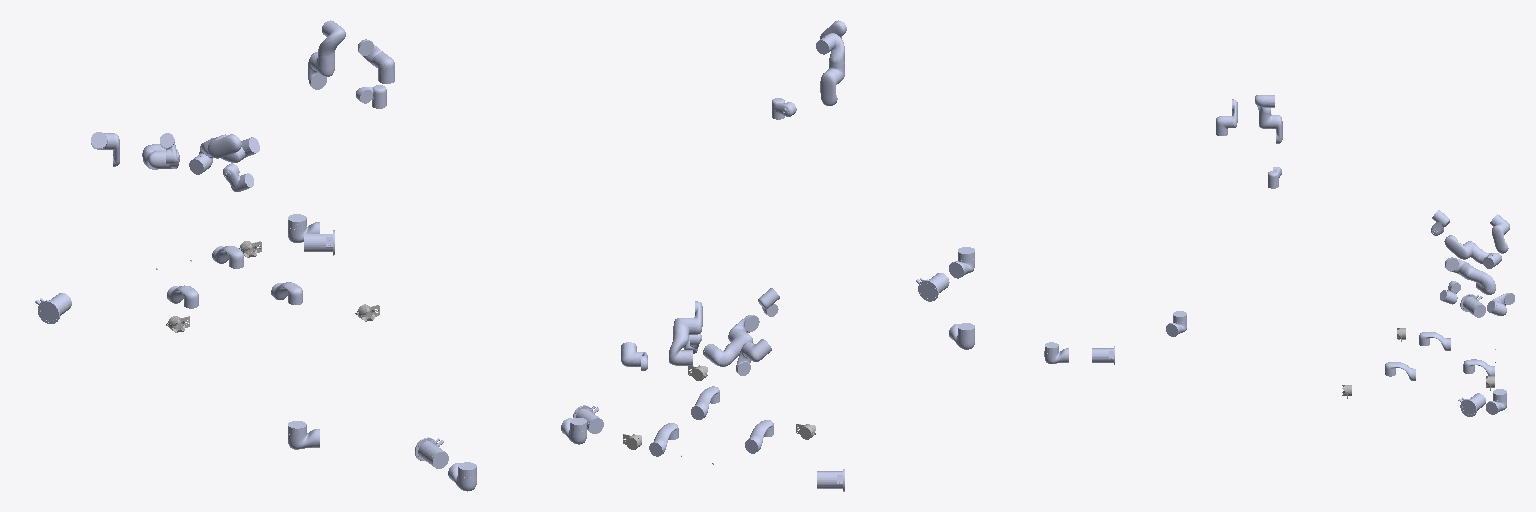
--- Render facts (derived) ---
Views: 3 orthographic renders of the robot side by side, from view 1: azimuth 30°, elevation 25°; view 2: azimuth 150°, elevation 25°; view 3: azimuth 270°, elevation 25°.
Model mario_assembly with 24 links and 23 joints (18 revolute, 2 continuous, 3 fixed), rooted at mainbaselink, posed every joint at zero.
Visible links, largest first — view 1: link2up, link2right, link3up, link1left, link0up, link0left, link1up, link1right, link2left, link3left, link0right, link5up (+4 smaller); view 2: link2up, link2left, link2right, link3left, link0up, link1up, link4up, link1left, link3right, link1right, link4right, link4left; view 3: link2left, link2right, link2up.
Boxes of the visible links, left/top/right/bottom form: link2up: left=308, top=20, right=345, bottom=89; link2right: left=189, top=134, right=241, bottom=174; link3up: left=358, top=39, right=394, bottom=83; link1left: left=288, top=421, right=319, bottom=449; link0up: left=415, top=437, right=448, bottom=468; link0left: left=35, top=293, right=71, bottom=323; link1up: left=448, top=462, right=476, bottom=491; link1right: left=288, top=214, right=319, bottom=242; link2left: left=142, top=144, right=179, bottom=169; link3left: left=91, top=132, right=119, bottom=166; link0right: left=304, top=230, right=334, bottom=255; link5up: left=356, top=85, right=386, bottom=108; link2up: left=816, top=33, right=844, bottom=105; link2left: left=703, top=315, right=759, bottom=366; link2right: left=669, top=301, right=702, bottom=365; link3left: left=736, top=339, right=771, bottom=375; link0up: left=916, top=273, right=949, bottom=301; link1up: left=949, top=247, right=974, bottom=278; link4up: left=649, top=423, right=678, bottom=456; link1left: left=949, top=323, right=974, bottom=349; link3right: left=621, top=342, right=647, bottom=370; link1right: left=561, top=418, right=586, bottom=444; link4right: left=745, top=420, right=773, bottom=453; link4left: left=691, top=386, right=719, bottom=419; link2left: left=1444, top=235, right=1501, bottom=268; link2right: left=1445, top=257, right=1495, bottom=294; link2up: left=1255, top=95, right=1282, bottom=143.
Bounding box of the posed robot: 1.72 × 3.13 × 2 m (x, y, z).
Meshes: 24 distinct files referenced, 23 mesh visuals loaded (23 binary STL); not drawn: 1 (reference not matched to a file when rendering).

The robot description file, URDF, robot "mario_assembly":
<?xml version="1.0" encoding="utf-8"?>
<!-- This URDF was automatically created by SolidWorks to URDF Exporter! Originally created by Stephen Brawner ([email redacted]) 
     Commit Version: 1.6.0-4-g7f85cfe  Build Version: 1.6.7995.38578
     For more information, please see http://wiki.ros.org/sw_urdf_exporter -->
<robot
  name="mario_assembly">
  <link
    name="mainbaselink">
    <inertial>
      <origin
        xyz="0.0013006 0.0028181 0.90172"
        rpy="0 0 0" />
      <mass
        value="70.837" />
      <inertia
        ixx="2.0746"
        ixy="3.0942E-10"
        ixz="-7.7853E-10"
        iyy="3.5026"
        iyz="-0.0003362"
        izz="1.815" />
    </inertial>
    <visual>
      <origin
        xyz="0 0 0"
        rpy="0 0 0" />
      <geometry>
        <mesh
          filename="package://mario_assembly/meshes/mainbaselink.STL" />
      </geometry>
      <material
        name="">
        <color
          rgba="0.75294 0.75294 0.75294 1" />
      </material>
    </visual>
    <collision>
      <origin
        xyz="0 0 0"
        rpy="0 0 0" />
      <geometry>
        <mesh
          filename="package://mario_assembly/meshes/mainbaselink.STL" />
      </geometry>
    </collision>
  </link>
  <link
    name="link0up">
    <inertial>
      <origin
        xyz="0.0013425 0.00067055 0.073474"
        rpy="0 0 0" />
      <mass
        value="1.1698" />
      <inertia
        ixx="0.0031913"
        ixy="-4.0011E-05"
        ixz="7.2685E-05"
        iyy="0.0032548"
        iyz="3.6295E-05"
        izz="0.0015021" />
    </inertial>
    <visual>
      <origin
        xyz="0 0 0"
        rpy="0 0 0" />
      <geometry>
        <mesh
          filename="package://mario_assembly/meshes/link0up.STL" />
      </geometry>
      <material
        name="">
        <color
          rgba="0.79216 0.81961 0.93333 1" />
      </material>
    </visual>
    <collision>
      <origin
        xyz="0 0 0"
        rpy="0 0 0" />
      <geometry>
        <mesh
          filename="package://mario_assembly/meshes/link0up.STL" />
      </geometry>
    </collision>
  </link>
  <joint
    name="joint0up"
    type="fixed">
    <origin
      xyz="0 -1.2629 0"
      rpy="1.5708 0 0" />
    <parent
      link="mainbaselink" />
    <child
      link="link0up" />
    <axis
      xyz="0 0 0" />
  </joint>
  <link
    name="link1up">
    <inertial>
      <origin
        xyz="0.00021271 0.0073927 0.085089"
        rpy="0 0 0" />
      <mass
        value="1.3256" />
      <inertia
        ixx="0.0039077"
        ixy="-3.0453E-06"
        ixz="-7.4554E-06"
        iyy="0.0032369"
        iyz="-0.00041283"
        izz="0.0021922" />
    </inertial>
    <visual>
      <origin
        xyz="0 0 0"
        rpy="0 0 0" />
      <geometry>
        <mesh
          filename="package://mario_assembly/meshes/link1up.STL" />
      </geometry>
      <material
        name="">
        <color
          rgba="0.79216 0.81961 0.93333 1" />
      </material>
    </visual>
    <collision>
      <origin
        xyz="0 0 0"
        rpy="0 0 0" />
      <geometry>
        <mesh
          filename="package://mario_assembly/meshes/link1up.STL" />
      </geometry>
    </collision>
  </link>
  <joint
    name="joint1up"
    type="revolute">
    <origin
      xyz="0 0 0.1548"
      rpy="0 0 0" />
    <parent
      link="link0up" />
    <child
      link="link1up" />
    <axis
      xyz="0 0 -1" />
    <limit
      lower="-6.283"
      upper="6.283"
      effort="5"
      velocity="5" />
    <dynamics
      damping="0.5" />
  </joint>
  <link
    name="link2up">
    <inertial>
      <origin
        xyz="0.013528 -0.16642 -0.048713"
        rpy="0 0 0" />
      <mass
        value="2.6935" />
      <inertia
        ixx="0.015114"
        ixy="0.0028282"
        ixz="-0.00014159"
        iyy="0.0043522"
        iyz="-0.00072817"
        izz="0.015671" />
    </inertial>
    <visual>
      <origin
        xyz="0 0 0"
        rpy="0 0 0" />
      <geometry>
        <mesh
          filename="package://mario_assembly/meshes/link2up.STL" />
      </geometry>
      <material
        name="">
        <color
          rgba="0.79216 0.81961 0.93333 1" />
      </material>
    </visual>
    <collision>
      <origin
        xyz="0 0 0"
        rpy="0 0 0" />
      <geometry>
        <mesh
          filename="package://mario_assembly/meshes/link2up.STL" />
      </geometry>
    </collision>
  </link>
  <joint
    name="joint2up"
    type="revolute">
    <origin
      xyz="0.00034899 0.075295 0.112"
      rpy="-1.5708 0 0" />
    <parent
      link="link1up" />
    <child
      link="link2up" />
    <axis
      xyz="0 0 1" />
    <limit
      lower="-2.059"
      upper="2.094"
      effort="5"
      velocity="5" />
    <dynamics
      damping="0.5" />
  </joint>
  <link
    name="link3up">
    <inertial>
      <origin
        xyz="0.063373 0.081477 -0.029861"
        rpy="0 0 0" />
      <mass
        value="1.3025" />
      <inertia
        ixx="0.0052822"
        ixy="-0.0012908"
        ixz="0.00090165"
        iyy="0.0038842"
        iyz="0.0016205"
        izz="0.0044896" />
    </inertial>
    <visual>
      <origin
        xyz="0 0 0"
        rpy="0 0 0" />
      <geometry>
        <mesh
          filename="package://mario_assembly/meshes/link3up.STL" />
      </geometry>
      <material
        name="">
        <color
          rgba="0.79216 0.81961 0.93333 1" />
      </material>
    </visual>
    <collision>
      <origin
        xyz="0 0 0"
        rpy="0 0 0" />
      <geometry>
        <mesh
          filename="package://mario_assembly/meshes/link3up.STL" />
      </geometry>
    </collision>
  </link>
  <joint
    name="joint3up"
    type="revolute">
    <origin
      xyz="0.053313 -0.2859 -0.0083026"
      rpy="0 0 0" />
    <parent
      link="link2up" />
    <child
      link="link3up" />
    <axis
      xyz="0 0 1" />
    <limit
      lower="-3.926"
      upper="0.192"
      effort="5"
      velocity="5" />
    <dynamics
      damping="0.5" />
  </joint>
  <link
    name="link4up">
    <inertial>
      <origin
        xyz="0.00027015 0.032423 0.10205"
        rpy="0 0 0" />
      <mass
        value="0.78957" />
      <inertia
        ixx="0.0043745"
        ixy="3.6089E-06"
        ixz="2.6054E-06"
        iyy="0.0039417"
        iyz="-0.00089192"
        izz="0.0010384" />
    </inertial>
    <visual>
      <origin
        xyz="0 0 0"
        rpy="0 0 0" />
      <geometry>
        <mesh
          filename="package://mario_assembly/meshes/link4up.STL" />
      </geometry>
      <material
        name="">
        <color
          rgba="0.79216 0.81961 0.93333 1" />
      </material>
    </visual>
    <collision>
      <origin
        xyz="0 0 0"
        rpy="0 0 0" />
      <geometry>
        <mesh
          filename="package://mario_assembly/meshes/link4up.STL" />
      </geometry>
    </collision>
  </link>
  <joint
    name="joint4up"
    type="revolute">
    <origin
      xyz="0.077751 0.16917 -0.067495"
      rpy="-1.5708 0 0" />
    <parent
      link="link3up" />
    <child
      link="link4up" />
    <axis
      xyz="0 0 -1" />
    <limit
      lower="-6.283"
      upper="6.283"
      effort="5"
      velocity="5" />
    <dynamics
      damping="0.5" />
  </joint>
  <link
    name="link5up">
    <inertial>
      <origin
        xyz="0.048685 0.011108 0.013355"
        rpy="0 0 0" />
      <mass
        value="0.72305" />
      <inertia
        ixx="0.00084167"
        ixy="-0.00021771"
        ixz="0.00027647"
        iyy="0.0014545"
        iyz="7.2752E-05"
        izz="0.0016684" />
    </inertial>
    <visual>
      <origin
        xyz="0 0 0"
        rpy="0 0 0" />
      <geometry>
        <mesh
          filename="package://mario_assembly/meshes/link5up.STL" />
      </geometry>
      <material
        name="">
        <color
          rgba="0.79216 0.81961 0.93333 1" />
      </material>
    </visual>
    <collision>
      <origin
        xyz="0 0 0"
        rpy="0 0 0" />
      <geometry>
        <mesh
          filename="package://mario_assembly/meshes/link5up.STL" />
      </geometry>
    </collision>
  </link>
  <joint
    name="link5up"
    type="revolute">
    <origin
      xyz="0.00043612 0.0047483 0.173"
      rpy="1.5708 0 0" />
    <parent
      link="link4up" />
    <child
      link="link5up" />
    <axis
      xyz="0 0 -1" />
    <limit
      lower="-1.69"
      upper="3.142"
      effort="5"
      velocity="5" />
    <dynamics
      damping="0.5" />
  </joint>
  <link
    name="link6up">
    <inertial>
      <origin
        xyz="0.0013911 -8.5874E-09 0.027547"
        rpy="0 0 0" />
      <mass
        value="0.22107" />
      <inertia
        ixx="0.00010302"
        ixy="1.1044E-12"
        ixz="-4.5584E-07"
        iyy="0.00011538"
        iyz="2.4475E-11"
        izz="0.00019334" />
    </inertial>
    <visual>
      <origin
        xyz="0 0 0"
        rpy="0 0 0" />
      <geometry>
        <mesh
          filename="package://mario_assembly/meshes/link6up.STL" />
      </geometry>
      <material
        name="">
        <color
          rgba="0.75294 0.75294 0.75294 1" />
      </material>
    </visual>
    <collision>
      <origin
        xyz="0 0 0"
        rpy="0 0 0" />
      <geometry>
        <mesh
          filename="package://mario_assembly/meshes/link6up.STL" />
      </geometry>
    </collision>
  </link>
  <joint
    name="joint6up"
    type="revolute">
    <origin
      xyz="0.076 0.0685 0.0043389"
      rpy="-1.5708 0 0" />
    <parent
      link="link5up" />
    <child
      link="link6up" />
    <axis
      xyz="0 0 -1" />
    <limit
      lower="-6.283"
      upper="6.283"
      effort="5"
      velocity="5" />
    <dynamics
      damping="0.5" />
  </joint>
  <link
    name="link0left">
    <inertial>
      <origin
        xyz="0.0013425 0.00067055 0.073474"
        rpy="0 0 0" />
      <mass
        value="1.1698" />
      <inertia
        ixx="0.0031913"
        ixy="-4.0011E-05"
        ixz="7.2686E-05"
        iyy="0.0032548"
        iyz="3.6295E-05"
        izz="0.0015021" />
    </inertial>
    <visual>
      <origin
        xyz="0 0 0"
        rpy="0 0 0" />
      <geometry>
        <mesh
          filename="package://mario_assembly/meshes/link0left.STL" />
      </geometry>
      <material
        name="">
        <color
          rgba="0.79216 0.81961 0.93333 1" />
      </material>
    </visual>
    <collision>
      <origin
        xyz="0 0 0"
        rpy="0 0 0" />
      <geometry>
        <mesh
          filename="package://mario_assembly/meshes/link0left.STL" />
      </geometry>
    </collision>
  </link>
  <joint
    name="joint0left"
    type="fixed">
    <origin
      xyz="-0.2625 -0.80825 0"
      rpy="1.5708 0 -2.0944" />
    <parent
      link="mainbaselink" />
    <child
      link="link0left" />
    <axis
      xyz="0 0 0" />
  </joint>
  <link
    name="link1left">
    <inertial>
      <origin
        xyz="-0.47036 0.0073924 -0.72922"
        rpy="0 0 0" />
      <mass
        value="1.3256" />
      <inertia
        ixx="0.0026145"
        ixy="0.00035901"
        ixz="-0.00073909"
        iyy="0.003237"
        iyz="0.00020378"
        izz="0.0034853" />
    </inertial>
    <visual>
      <origin
        xyz="0 0 0"
        rpy="0 0 0" />
      <geometry>
        <mesh
          filename="package://mario_assembly/meshes/link1left.STL" />
      </geometry>
      <material
        name="">
        <color
          rgba="0.79216 0.81961 0.93333 1" />
      </material>
    </visual>
    <collision>
      <origin
        xyz="0 0 0"
        rpy="0 0 0" />
      <geometry>
        <mesh
          filename="package://mario_assembly/meshes/link1left.STL" />
      </geometry>
    </collision>
  </link>
  <joint
    name="joint1left"
    type="revolute">
    <origin
      xyz="0.39656 0 -0.53206"
      rpy="3.1416 1.0472 3.1416" />
    <parent
      link="link0left" />
    <child
      link="link1left" />
    <axis
      xyz="0.86603 0 0.5" />
    <limit
      lower="-6.283"
      upper="6.283"
      effort="5"
      velocity="5" />
    <dynamics
      damping="0.5" />
  </joint>
  <link
    name="link2left">
    <inertial>
      <origin
        xyz="0.013528 -0.16642 -0.048713"
        rpy="0 0 0" />
      <mass
        value="2.6935" />
      <inertia
        ixx="0.015114"
        ixy="0.0028282"
        ixz="-0.00014158"
        iyy="0.0043521"
        iyz="-0.00072816"
        izz="0.015671" />
    </inertial>
    <visual>
      <origin
        xyz="0 0 0"
        rpy="0 0 0" />
      <geometry>
        <mesh
          filename="package://mario_assembly/meshes/link2left.STL" />
      </geometry>
      <material
        name="">
        <color
          rgba="0.79216 0.81961 0.93333 1" />
      </material>
    </visual>
    <collision>
      <origin
        xyz="0 0 0"
        rpy="0 0 0" />
      <geometry>
        <mesh
          filename="package://mario_assembly/meshes/link2left.STL" />
      </geometry>
    </collision>
  </link>
  <joint
    name="joint2left"
    type="revolute">
    <origin
      xyz="-0.49373 0.075295 -0.74256"
      rpy="1.5708 -1.0472 -3.1416" />
    <parent
      link="link1left" />
    <child
      link="link2left" />
    <axis
      xyz="0 0 1" />
    <limit
      lower="-2.059"
      upper="2.094"
      effort="5"
      velocity="5" />
    <dynamics
      damping="0.5" />
  </joint>
  <link
    name="link3left">
    <inertial>
      <origin
        xyz="0.063373 0.081477 -0.029861"
        rpy="0 0 0" />
      <mass
        value="1.3025" />
      <inertia
        ixx="0.0052822"
        ixy="-0.0012908"
        ixz="0.00090165"
        iyy="0.0038842"
        iyz="0.0016205"
        izz="0.0044896" />
    </inertial>
    <visual>
      <origin
        xyz="0 0 0"
        rpy="0 0 0" />
      <geometry>
        <mesh
          filename="package://mario_assembly/meshes/link3left.STL" />
      </geometry>
      <material
        name="">
        <color
          rgba="0.79216 0.81961 0.93333 1" />
      </material>
    </visual>
    <collision>
      <origin
        xyz="0 0 0"
        rpy="0 0 0" />
      <geometry>
        <mesh
          filename="package://mario_assembly/meshes/link3left.STL" />
      </geometry>
    </collision>
  </link>
  <joint
    name="joint3left"
    type="revolute">
    <origin
      xyz="0.053313 -0.2859 -0.0083026"
      rpy="0 0 0" />
    <parent
      link="link2left" />
    <child
      link="link3left" />
    <axis
      xyz="0 0 1" />
    <limit
      lower="-3.926"
      upper="0.192"
      effort="5"
      velocity="5" />
    <dynamics
      damping="0.5" />
  </joint>
  <link
    name="link4left">
    <inertial>
      <origin
        xyz="0.0002699 0.032423 0.10205"
        rpy="0 0 0" />
      <mass
        value="0.78956" />
      <inertia
        ixx="0.0043745"
        ixy="3.6133E-06"
        ixz="2.6058E-06"
        iyy="0.0039417"
        iyz="-0.00089191"
        izz="0.0010383" />
    </inertial>
    <visual>
      <origin
        xyz="0 0 0"
        rpy="0 0 0" />
      <geometry>
        <mesh
          filename="package://mario_assembly/meshes/link4left.STL" />
      </geometry>
      <material
        name="">
        <color
          rgba="0.79216 0.81961 0.93333 1" />
      </material>
    </visual>
    <collision>
      <origin
        xyz="0 0 0"
        rpy="0 0 0" />
      <geometry>
        <mesh
          filename="package://mario_assembly/meshes/link4left.STL" />
      </geometry>
    </collision>
  </link>
  <joint
    name="joint4left"
    type="revolute">
    <origin
      xyz="0.077751 0.16917 -0.067495"
      rpy="-1.5708 0 0" />
    <parent
      link="link3left" />
    <child
      link="link4left" />
    <axis
      xyz="0 0 -1" />
    <limit
      lower="-6.283"
      upper="6.283"
      effort="5"
      velocity="5" />
    <dynamics
      damping="0.5" />
  </joint>
  <link
    name="link5left">
    <inertial>
      <origin
        xyz="0.048685 0.011108 0.013355"
        rpy="0 0 0" />
      <mass
        value="0.72305" />
      <inertia
        ixx="0.00084167"
        ixy="-0.00021775"
        ixz="0.00027647"
        iyy="0.0014546"
        iyz="7.2753E-05"
        izz="0.0016685" />
    </inertial>
    <visual>
      <origin
        xyz="0 0 0"
        rpy="0 0 0" />
      <geometry>
        <mesh
          filename="package://mario_assembly/meshes/link5left.STL" />
      </geometry>
      <material
        name="">
        <color
          rgba="0.79216 0.81961 0.93333 1" />
      </material>
    </visual>
    <collision>
      <origin
        xyz="0 0 0"
        rpy="0 0 0" />
      <geometry>
        <mesh
          filename="package://mario_assembly/meshes/link5left.STL" />
      </geometry>
    </collision>
  </link>
  <joint
    name="joint5left"
    type="revolute">
    <origin
      xyz="0.00043612 0.0047483 0.173"
      rpy="1.5708 0 0" />
    <parent
      link="link4left" />
    <child
      link="link5left" />
    <axis
      xyz="0 0 -1" />
    <limit
      lower="-1.69"
      upper="3.142"
      effort="5"
      velocity="5" />
    <dynamics
      damping="0.5" />
  </joint>
  <link
    name="link6left">
    <inertial>
      <origin
        xyz="0.0013911 -8.883E-09 0.027547"
        rpy="0 0 0" />
      <mass
        value="0.22107" />
      <inertia
        ixx="0.00010302"
        ixy="-8.5156E-12"
        ixz="-4.5586E-07"
        iyy="0.00011538"
        iyz="2.1447E-11"
        izz="0.00019334" />
    </inertial>
    <visual>
      <origin
        xyz="0 0 0"
        rpy="0 0 0" />
      <geometry>
        <mesh
          filename="package://mario_assembly/meshes/link6left.STL" />
      </geometry>
      <material
        name="">
        <color
          rgba="0.75294 0.75294 0.75294 1" />
      </material>
    </visual>
    <collision>
      <origin
        xyz="0 0 0"
        rpy="0 0 0" />
      <geometry>
        <mesh
          filename="package://mario_assembly/meshes/link6left.STL" />
      </geometry>
    </collision>
  </link>
  <joint
    name="joint6left"
    type="revolute">
    <origin
      xyz="0.076 0.0685 0.0043389"
      rpy="-1.5708 0 0" />
    <parent
      link="link5left" />
    <child
      link="link6left" />
    <axis
      xyz="0 0 -1" />
    <limit
      lower="-6.283"
      upper="6.283"
      effort="5"
      velocity="5" />
    <dynamics
      damping="0.5" />
  </joint>
  <link
    name="link0right">
    <inertial>
      <origin
        xyz="0.0013425 0.00067056 0.073474"
        rpy="0 0 0" />
      <mass
        value="1.1698" />
      <inertia
        ixx="0.0031913"
        ixy="-4.0011E-05"
        ixz="7.2686E-05"
        iyy="0.0032548"
        iyz="3.6294E-05"
        izz="0.0015021" />
    </inertial>
    <visual>
      <origin
        xyz="0 0 0"
        rpy="0 0 0" />
      <geometry>
        <mesh
          filename="package://mario_assembly/meshes/link0right.STL" />
      </geometry>
      <material
        name="">
        <color
          rgba="0.79216 0.81961 0.93333 1" />
      </material>
    </visual>
    <collision>
      <origin
        xyz="0 0 0"
        rpy="0 0 0" />
      <geometry>
        <mesh
          filename="package://mario_assembly/meshes/link0right.STL" />
      </geometry>
    </collision>
  </link>
  <joint
    name="joint0right"
    type="fixed">
    <origin
      xyz="0.2625 -0.80825 0"
      rpy="1.5708 0 2.0944" />
    <parent
      link="mainbaselink" />
    <child
      link="link0right" />
    <axis
      xyz="0 0 0" />
  </joint>
  <link
    name="link1right">
    <inertial>
      <origin
        xyz="0.00021233 0.0073925 0.085089"
        rpy="0 0 0" />
      <mass
        value="1.3256" />
      <inertia
        ixx="0.0039076"
        ixy="-3.041E-06"
        ixz="-7.4461E-06"
        iyy="0.0032369"
        iyz="-0.00041282"
        izz="0.0021922" />
    </inertial>
    <visual>
      <origin
        xyz="0 0 0"
        rpy="0 0 0" />
      <geometry>
        <mesh
          filename="package://mario_assembly/meshes/link1right.STL" />
      </geometry>
      <material
        name="">
        <color
          rgba="0.79216 0.81961 0.93333 1" />
      </material>
    </visual>
    <collision>
      <origin
        xyz="0 0 0"
        rpy="0 0 0" />
      <geometry>
        <mesh
          filename="package://mario_assembly/meshes/link1right.STL" />
      </geometry>
    </collision>
  </link>
  <joint
    name="jointright"
    type="revolute">
    <origin
      xyz="0 0 0.1548"
      rpy="0 0 0" />
    <parent
      link="link0right" />
    <child
      link="link1right" />
    <axis
      xyz="0 0 -1" />
    <limit
      lower="-6.283"
      upper="6.283"
      effort="5"
      velocity="5" />
    <dynamics
      damping="0.5" />
  </joint>
  <link
    name="link2right">
    <inertial>
      <origin
        xyz="0.013528 -0.16642 -0.048713"
        rpy="0 0 0" />
      <mass
        value="2.6935" />
      <inertia
        ixx="0.015114"
        ixy="0.0028282"
        ixz="-0.00014159"
        iyy="0.0043521"
        iyz="-0.00072813"
        izz="0.015671" />
    </inertial>
    <visual>
      <origin
        xyz="0 0 0"
        rpy="0 0 0" />
      <geometry>
        <mesh
          filename="package://mario_assembly/meshes/link2right.STL" />
      </geometry>
      <material
        name="">
        <color
          rgba="0.79216 0.81961 0.93333 1" />
      </material>
    </visual>
    <collision>
      <origin
        xyz="0 0 0"
        rpy="0 0 0" />
      <geometry>
        <mesh
          filename="package://mario_assembly/meshes/link2right.STL" />
      </geometry>
    </collision>
  </link>
  <joint
    name="joint2right"
    type="revolute">
    <origin
      xyz="0.00034902 0.075295 0.112"
      rpy="-1.5708 0 0" />
    <parent
      link="link1right" />
    <child
      link="link2right" />
    <axis
      xyz="0 0 1" />
    <limit
      lower="-2.059"
      upper="2.094"
      effort="5"
      velocity="5" />
    <dynamics
      damping="0.5" />
  </joint>
  <link
    name="link3right">
    <inertial>
      <origin
        xyz="0.063373 0.081476 -0.029861"
        rpy="0 0 0" />
      <mass
        value="1.3025" />
      <inertia
        ixx="0.0052823"
        ixy="-0.0012909"
        ixz="0.00090167"
        iyy="0.0038844"
        iyz="0.0016205"
        izz="0.0044899" />
    </inertial>
    <visual>
      <origin
        xyz="0 0 0"
        rpy="0 0 0" />
      <geometry>
        <mesh
          filename="package://mario_assembly/meshes/link3right.STL" />
      </geometry>
      <material
        name="">
        <color
          rgba="0.79216 0.81961 0.93333 1" />
      </material>
    </visual>
    <collision>
      <origin
        xyz="0 0 0"
        rpy="0 0 0" />
      <geometry>
        <mesh
          filename="package://mario_assembly/meshes/link3right.STL" />
      </geometry>
    </collision>
  </link>
  <joint
    name="joint3right"
    type="revolute">
    <origin
      xyz="0.053313 -0.2859 -0.0083026"
      rpy="0 0 0" />
    <parent
      link="link2right" />
    <child
      link="link3right" />
    <axis
      xyz="0 0 1" />
    <limit
      lower="-3.926"
      upper="0.192"
      effort="5"
      velocity="5" />
    <dynamics
      damping="0.5" />
  </joint>
  <link
    name="link4right">
    <inertial>
      <origin
        xyz="0.00027002 0.032423 0.10205"
        rpy="0 0 0" />
      <mass
        value="0.78956" />
      <inertia
        ixx="0.0043745"
        ixy="3.6114E-06"
        ixz="2.5887E-06"
        iyy="0.0039417"
        iyz="-0.00089191"
        izz="0.0010383" />
    </inertial>
    <visual>
      <origin
        xyz="0 0 0"
        rpy="0 0 0" />
      <geometry>
        <mesh
          filename="package://mario_assembly/meshes/link4right.STL" />
      </geometry>
      <material
        name="">
        <color
          rgba="0.79216 0.81961 0.93333 1" />
      </material>
    </visual>
    <collision>
      <origin
        xyz="0 0 0"
        rpy="0 0 0" />
      <geometry>
        <mesh
          filename="package://mario_assembly/meshes/link4right.STL" />
      </geometry>
    </collision>
  </link>
  <joint
    name="joint4right"
    type="revolute">
    <origin
      xyz="0.077751 0.16917 -0.067495"
      rpy="-1.5708 0 0" />
    <parent
      link="link3right" />
    <child
      link="link4right" />
    <axis
      xyz="0 0 -1" />
    <limit
      lower="-6.283"
      upper="6.283"
      effort="5"
      velocity="5" />
    <dynamics
      damping="0.5" />
  </joint>
  <link
    name="link5right">
    <inertial>
      <origin
        xyz="0.048685 0.011108 0.013355"
        rpy="0 0 0" />
      <mass
        value="0.72305" />
      <inertia
        ixx="0.00084167"
        ixy="-0.00021772"
        ixz="0.00027646"
        iyy="0.0014546"
        iyz="7.2753E-05"
        izz="0.0016685" />
    </inertial>
    <visual>
      <origin
        xyz="0 0 0"
        rpy="0 0 0" />
      <geometry>
        <mesh
          filename="package://mario_assembly/meshes/link5right.STL" />
      </geometry>
      <material
        name="">
        <color
          rgba="0.79216 0.81961 0.93333 1" />
      </material>
    </visual>
    <collision>
      <origin
        xyz="0 0 0"
        rpy="0 0 0" />
      <geometry>
        <mesh
          filename="package://mario_assembly/meshes/link5right.STL" />
      </geometry>
    </collision>
  </link>
  <joint
    name="joint5right"
    type="revolute">
    <origin
      xyz="0.00043612 0.0047483 0.173"
      rpy="1.5708 0 0" />
    <parent
      link="link4right" />
    <child
      link="link5right" />
    <axis
      xyz="0 0 -1" />
    <limit
      lower="-1.69"
      upper="3.142"
      effort="5"
      velocity="5" />
    <dynamics
      damping="0.5" />
  </joint>
  <link
    name="link6right">
    <inertial>
      <origin
        xyz="0.0013911 -8.6367E-09 0.027547"
        rpy="0 0 0" />
      <mass
        value="0.22107" />
      <inertia
        ixx="0.00010302"
        ixy="-1.1511E-11"
        ixz="-4.5583E-07"
        iyy="0.00011538"
        iyz="3.8698E-11"
        izz="0.00019334" />
    </inertial>
    <visual>
      <origin
        xyz="0 0 0"
        rpy="0 0 0" />
      <geometry>
        <mesh
          filename="package://mario_assembly/meshes/link6right.STL" />
      </geometry>
      <material
        name="">
        <color
          rgba="0.75294 0.75294 0.75294 1" />
      </material>
    </visual>
    <collision>
      <origin
        xyz="0 0 0"
        rpy="0 0 0" />
      <geometry>
        <mesh
          filename="package://mario_assembly/meshes/link6right.STL" />
      </geometry>
    </collision>
  </link>
  <joint
    name="joint6right"
    type="revolute">
    <origin
      xyz="0.076 0.0685 0.0043389"
      rpy="-1.5708 0 0" />
    <parent
      link="link5right" />
    <child
      link="link6right" />
    <axis
      xyz="0 0 -1" />
    <limit
      lower="-6.283"
      upper="6.283"
      effort="5"
      velocity="5" />
    <dynamics
      damping="0.5" />
  </joint>
  <link
    name="linkairbearing1">
    <inertial>
      <origin
        xyz="-1.38777878078145E-17 -0.001875 -2.43597822040295E-20"
        rpy="0 0 0" />
      <mass
        value="0.000261799387799149" />
      <inertia
        ixx="1.69760540526011E-09"
        ixy="-8.07063900610767E-42"
        ixz="-8.41825381448253E-41"
        iyy="2.6179938779915E-09"
        iyz="5.97953457190727E-26"
        izz="1.69760540526011E-09" />
    </inertial>
    <visual>
      <origin
        xyz="0 0 0"
        rpy="0 0 0" />
      <geometry>
        <mesh
          filename="package://mario_assembly/meshes/linkairbearing1.STL" />
      </geometry>
      <material
        name="">
        <color
          rgba="0.792156862745098 0.819607843137255 0.933333333333333 1" />
      </material>
    </visual>
    <collision>
      <origin
        xyz="0 0 0"
        rpy="0 0 0" />
      <geometry>
        <mesh
          filename="package://mario_assembly/meshes/linkairbearing1.STL" />
      </geometry>
    </collision>
  </link>
  <joint
    name="jointairbearing1"
    type="continuous">
    <origin
      xyz="-0.1 0 0"
      rpy="3.1416 0 0" />
    <parent
      link="mainbaselink" />
    <child
      link="linkairbearing1" />
    <axis
      xyz="0 1 0" />
    <limit
      lower="-6.283"
      upper="6.283"
      effort="5"
      velocity="5" />
    <dynamics
      damping="0" />
  </joint>
  <link
    name="linkairbearing2">
    <inertial>
      <origin
        xyz="0 0 0"
        rpy="0 0 0" />
      <mass
        value="0" />
      <inertia
        ixx="0"
        ixy="0"
        ixz="0"
        iyy="0"
        iyz="0"
        izz="0" />
    </inertial>
    <visual>
      <origin
        xyz="0 0 0"
        rpy="0 0 0" />
      <geometry>
        <mesh
          filename="package://mario_assembly/meshes/linkairbearing2.STL" />
      </geometry>
      <material
        name="">
        <color
          rgba="1 1 1 1" />
      </material>
    </visual>
    <collision>
      <origin
        xyz="0 0 0"
        rpy="0 0 0" />
      <geometry>
        <mesh
          filename="package://mario_assembly/meshes/linkairbearing2.STL" />
      </geometry>
    </collision>
  </link>
  <joint
    name="jointairbearing2"
    type="continuous">
    <origin
      xyz="0.1 0 0"
      rpy="3.1416 0 0" />
    <parent
      link="mainbaselink" />
    <child
      link="linkairbearing2" />
    <axis
      xyz="0 1 0" />
    <limit
      lower="-6.283"
      upper="6.283"
      effort="5"
      velocity="5" />
  </joint>
</robot>
